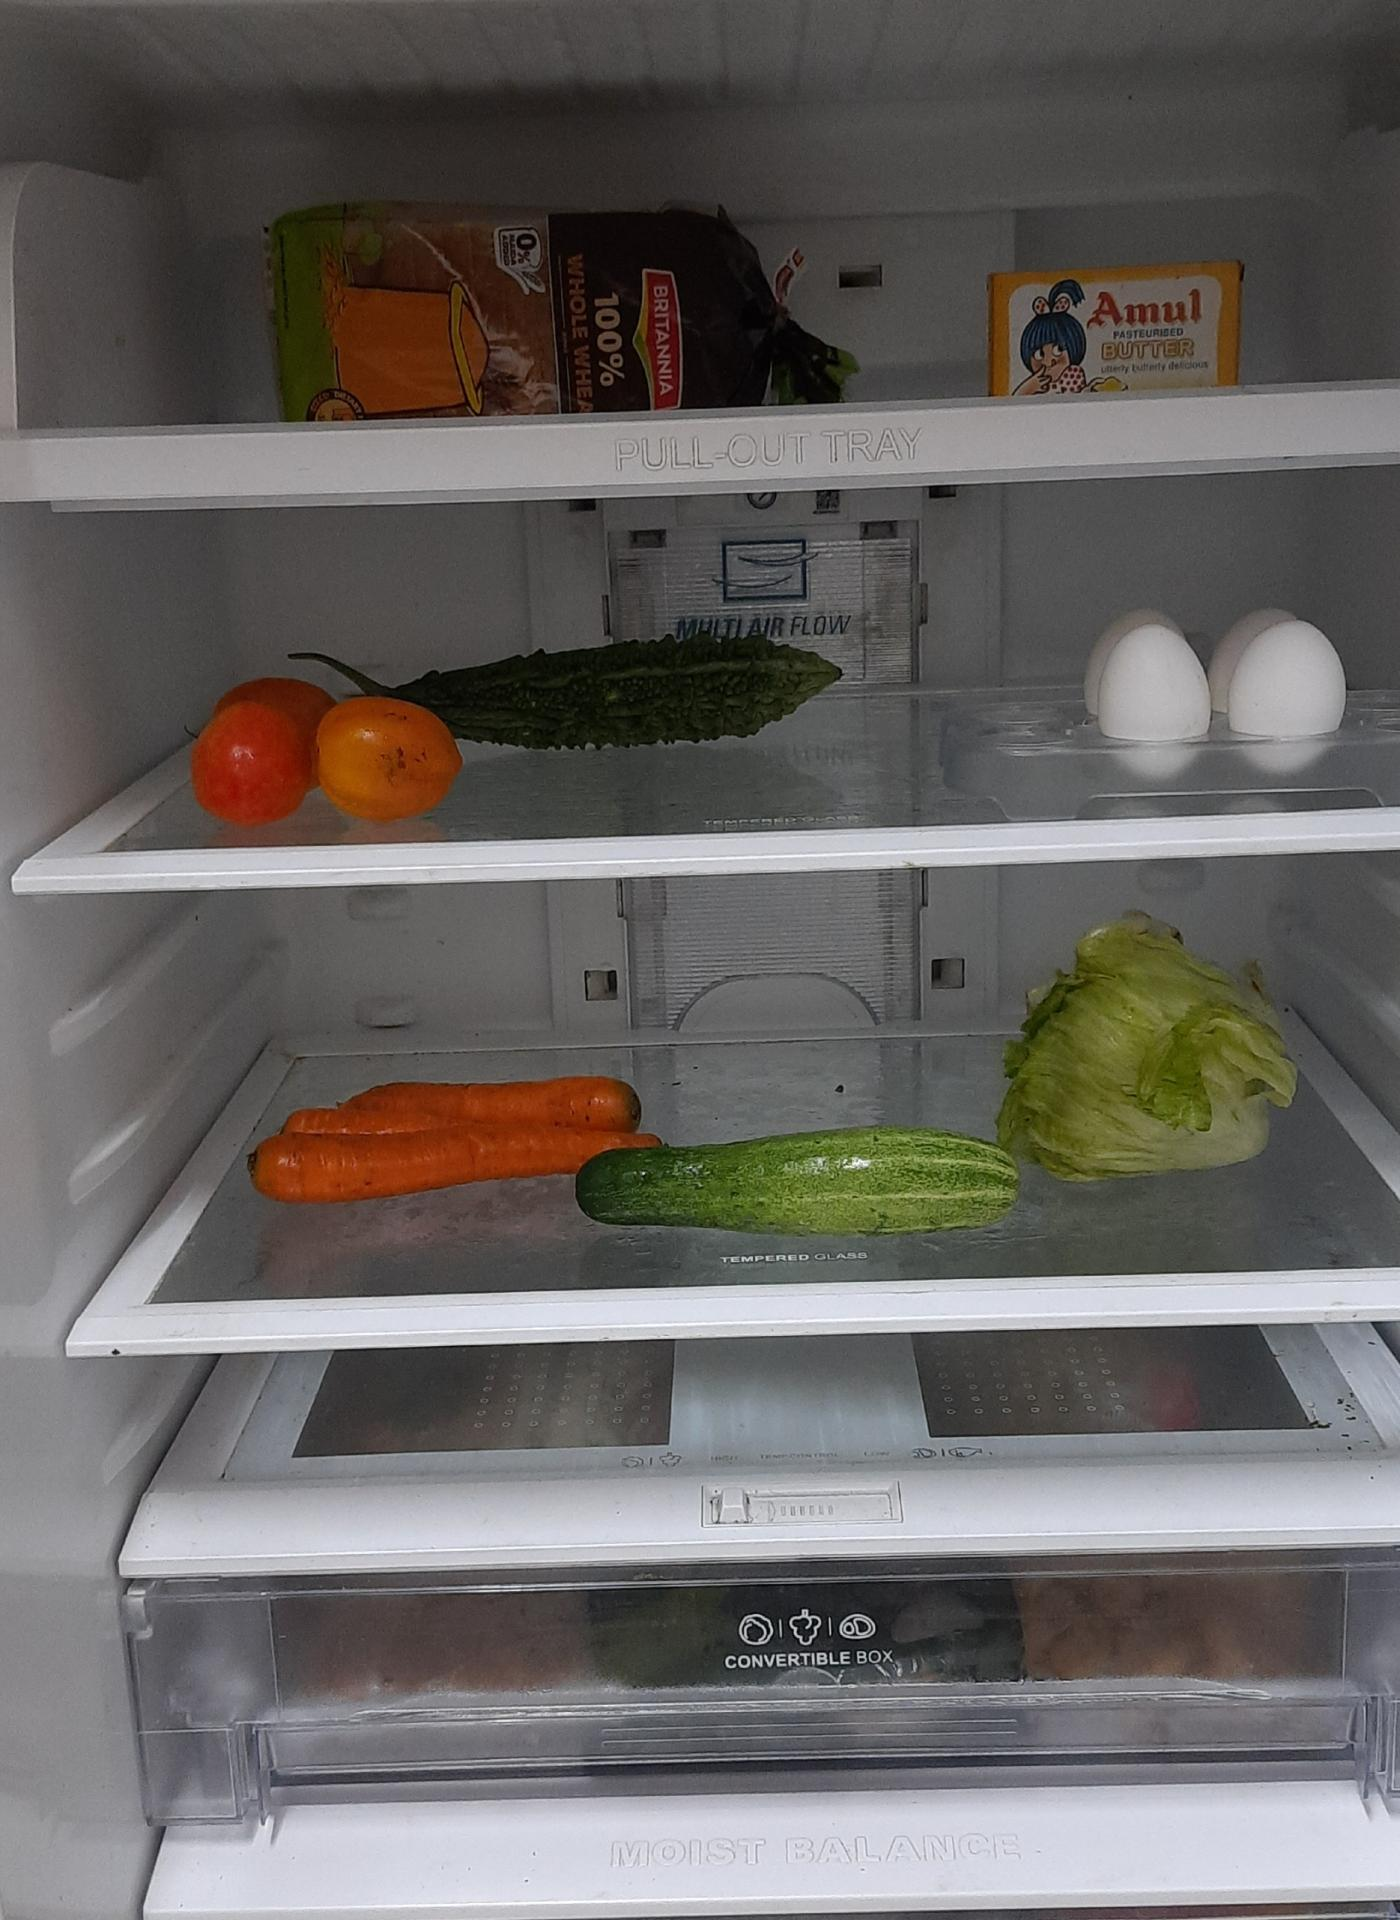bitter gourd: (344, 634, 850, 750)
bread: (267, 180, 859, 404)
butter: (987, 259, 1257, 389)
carrots: (252, 1072, 656, 1203)
cucumber: (580, 1127, 1018, 1246)
egg: (1091, 623, 1358, 778)
lettuce: (991, 912, 1291, 1169)
tomato: (194, 672, 465, 818)
